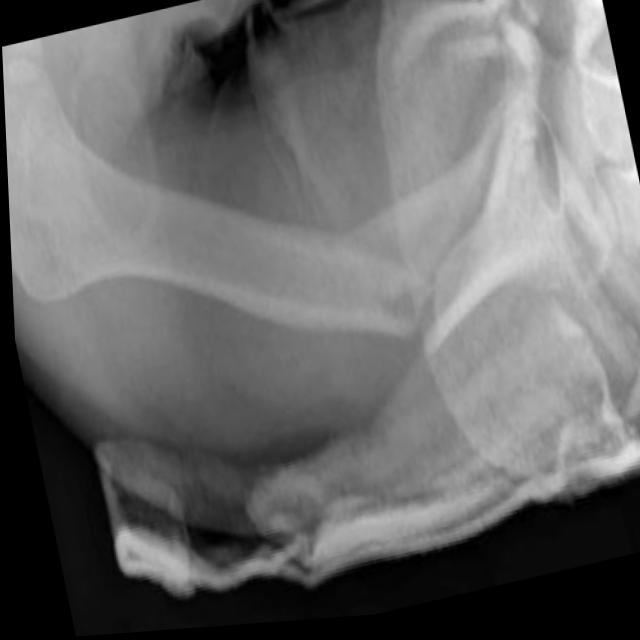fracture: (342, 199, 469, 412)
